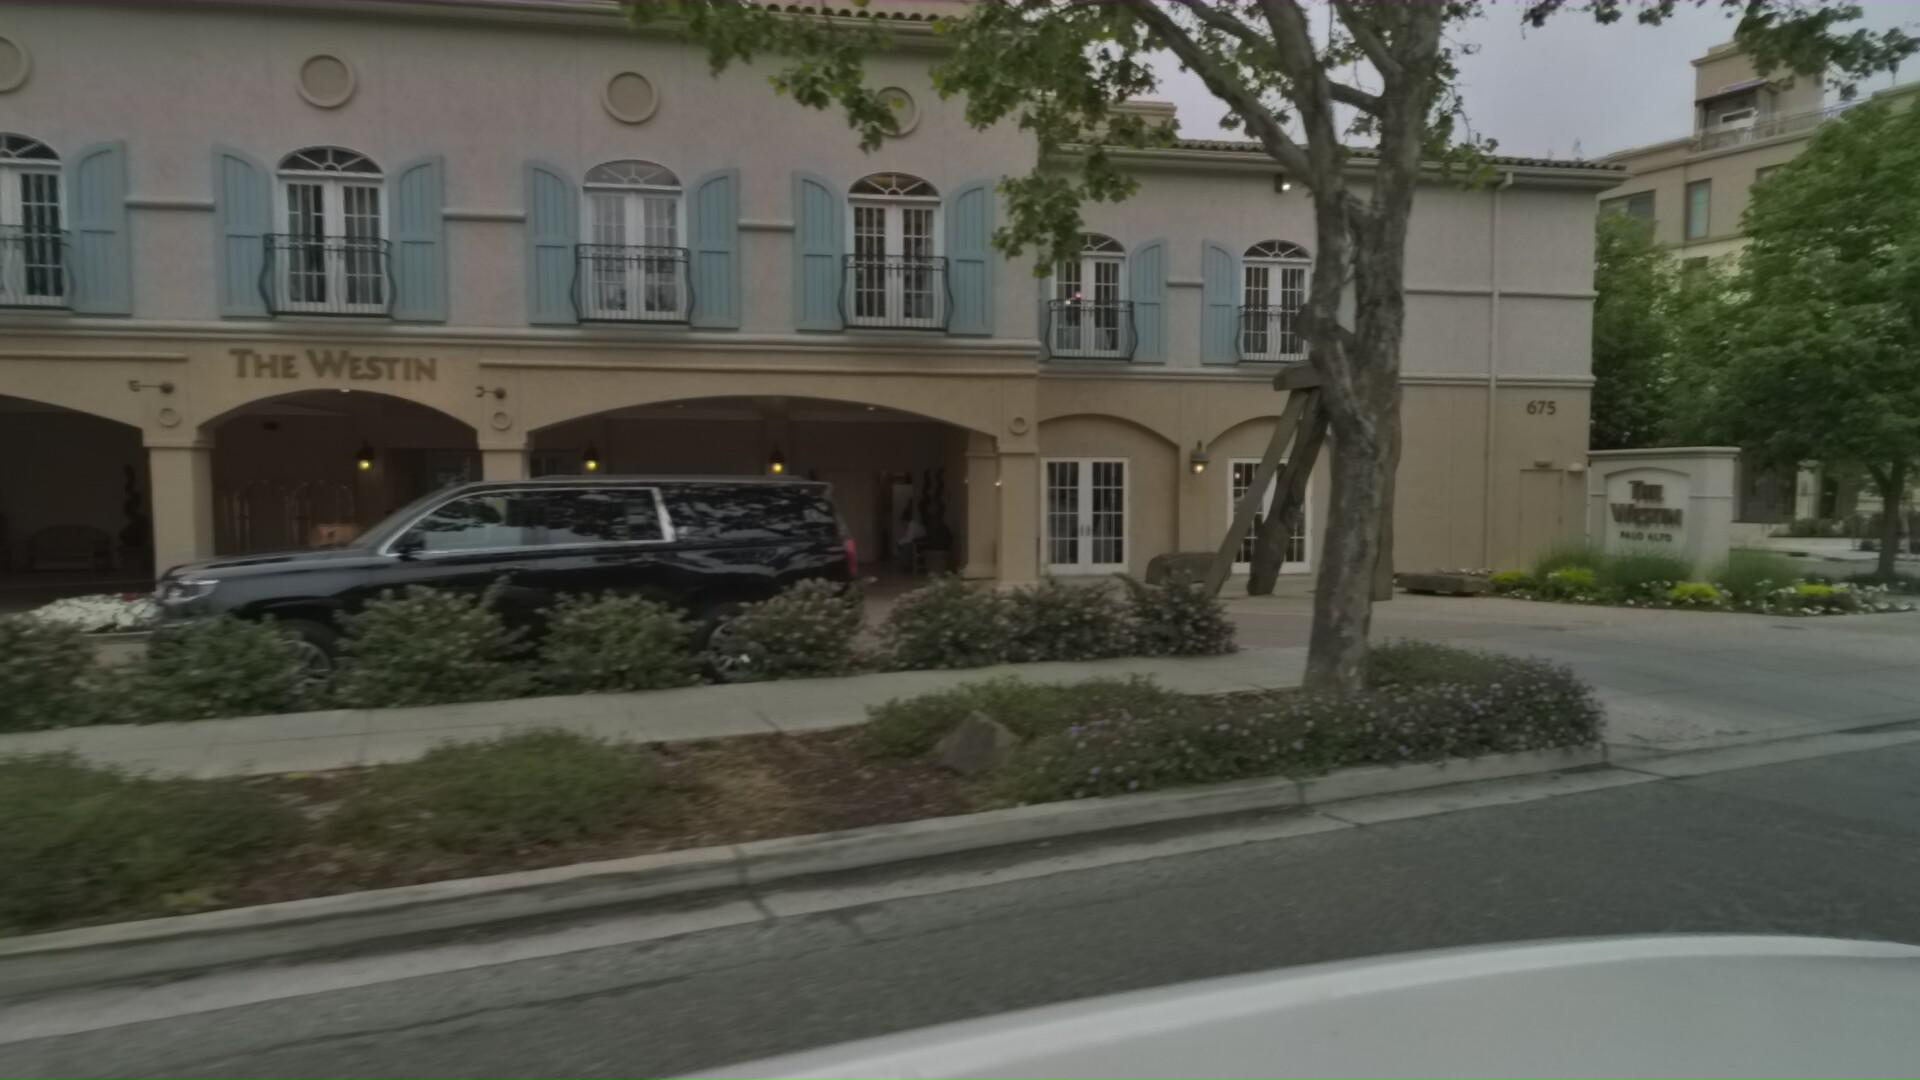car: (189, 456, 918, 717), (0, 506, 88, 808), (1908, 469, 1920, 607)
